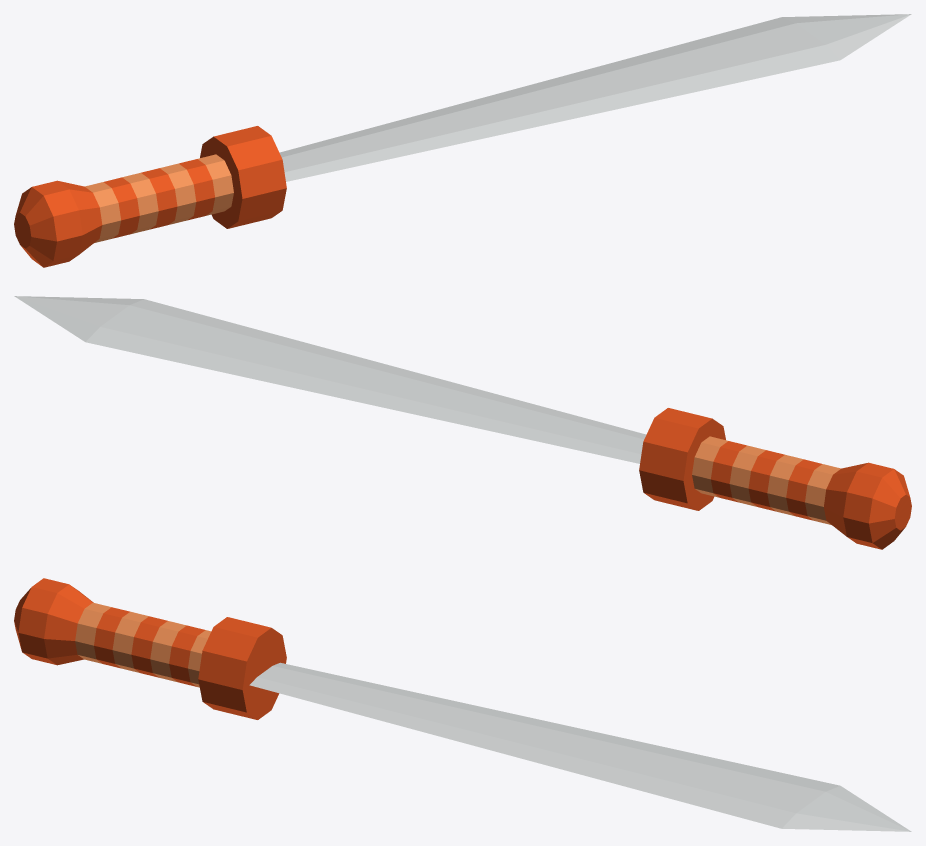
File: Sword_Type1.fbx
3 renders of one model, top to bottom at view 1: azimuth 30°, elevation 25°; view 2: azimuth 150°, elevation 25°; view 3: azimuth 330°, elevation 25°, orthographic.
Visible parts, largest first — view 1: Cylinder, Cylinder.001; view 2: Cylinder, Cylinder.001; view 3: Cylinder, Cylinder.001.
Boxes of the visible parts, left/top/right/bottom form: Cylinder: left=279, top=14, right=911, bottom=181; Cylinder.001: left=14, top=126, right=286, bottom=267; Cylinder: left=14, top=296, right=646, bottom=463; Cylinder.001: left=639, top=408, right=911, bottom=549; Cylinder: left=249, top=662, right=911, bottom=831; Cylinder.001: left=14, top=578, right=286, bottom=719.
Size of the model in its own units: 3461 by 307 by 397.
